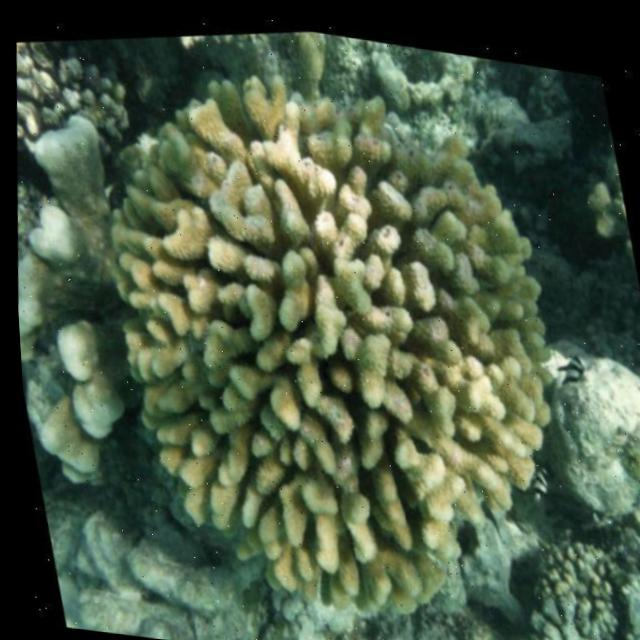Healthy Coral: (3, 0, 636, 640)
